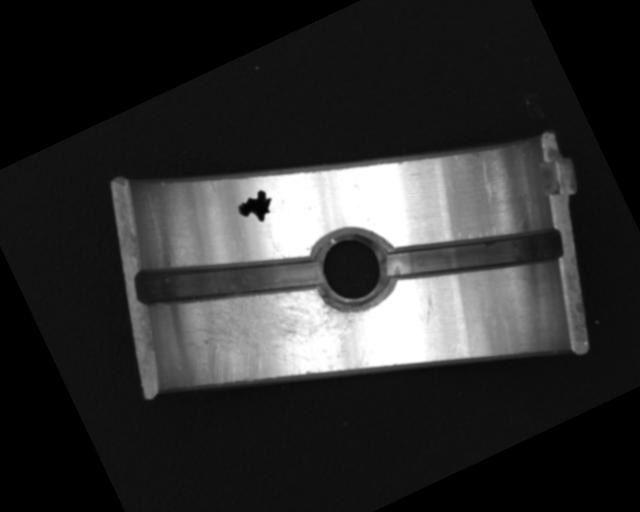blot: (232, 185, 281, 231)
gap: (133, 203, 324, 354), (380, 185, 568, 328)
hole: (298, 211, 406, 324)
nick: (467, 151, 506, 203)
scratch: (167, 239, 391, 441)
